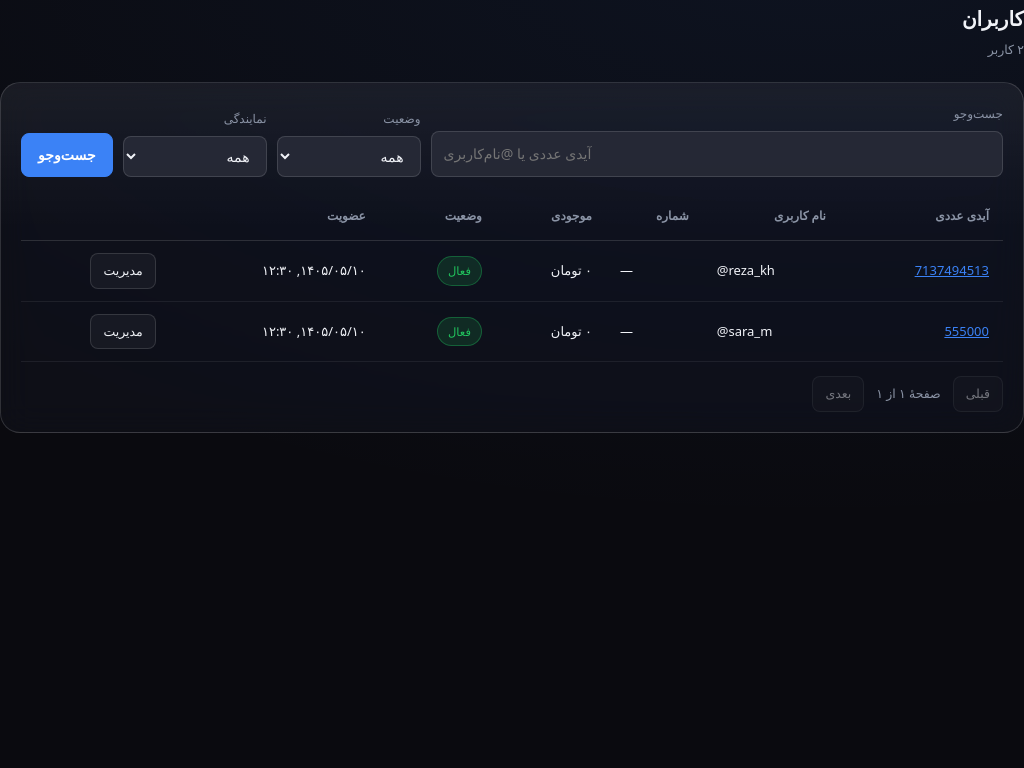
it: two customers, one card › ignores an answer that arrives for the customer who is no longer open
Click the button "مدیریت" in the row of "7137494513" at {"x": 123, "y": 271}, box [90,253,156,289]
(page scrolled)
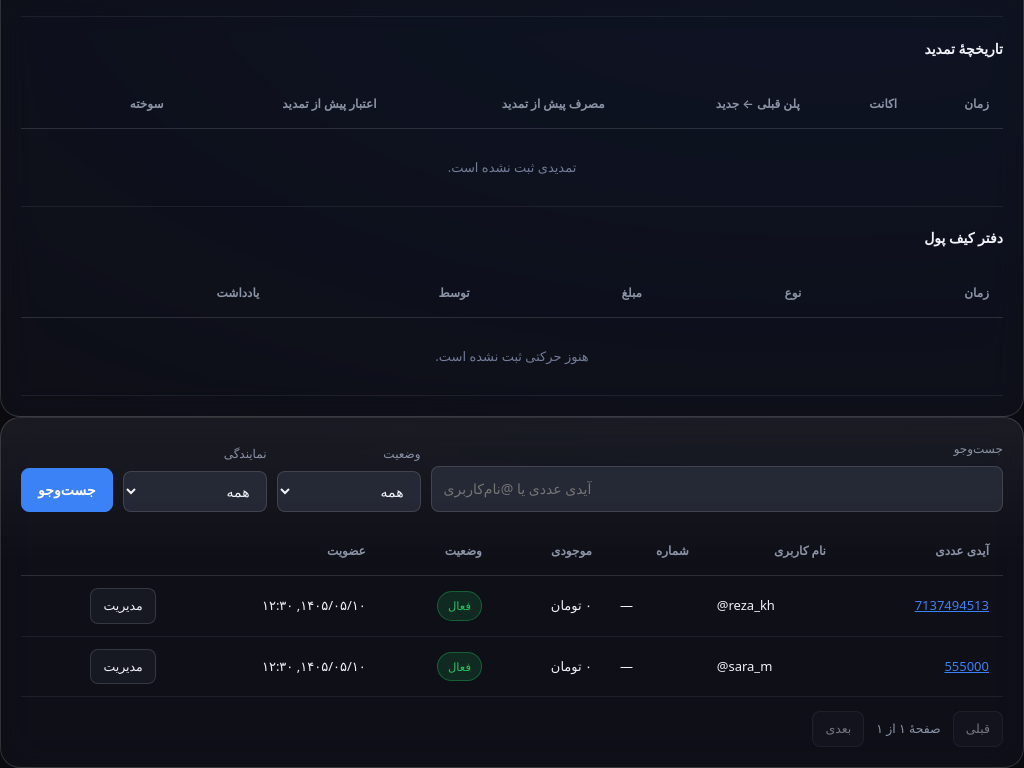
Note: Switch to the other customer before the first answer comes back.
Click the button "مدیریت" in the row of "555000" at {"x": 123, "y": 667}, box [90,649,156,685]
(page scrolled)
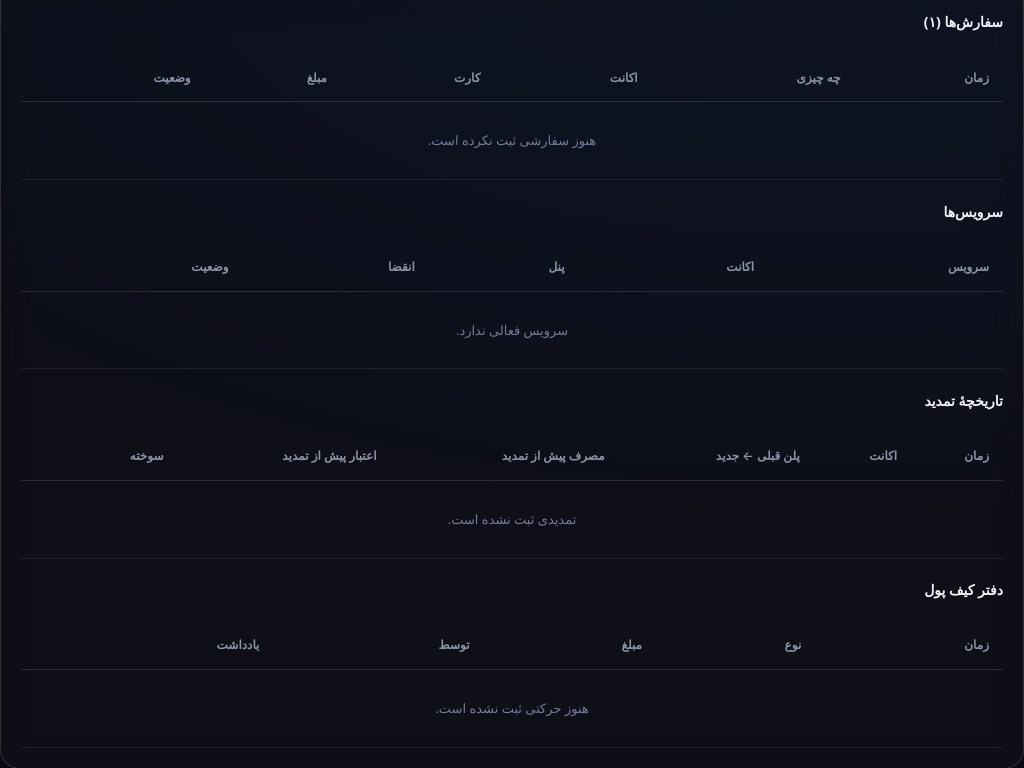
Expected: the heading "سفارش‌ها (۱)" is shown, [924,12,1003,31]
